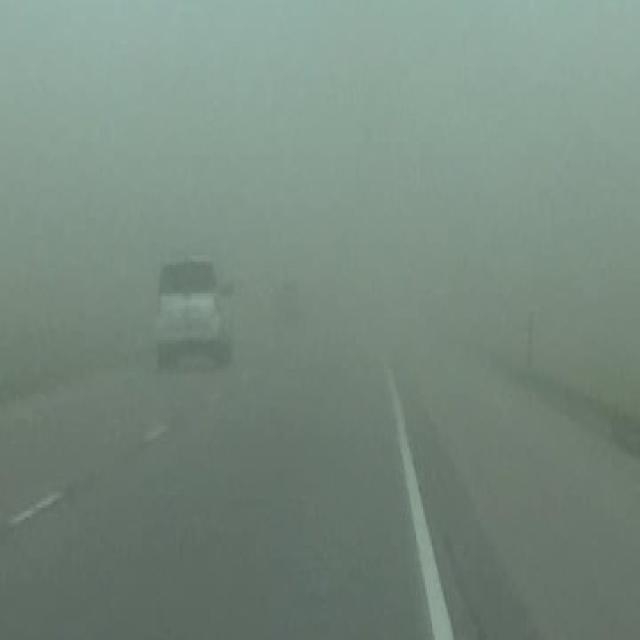car: (154, 255, 235, 365)
